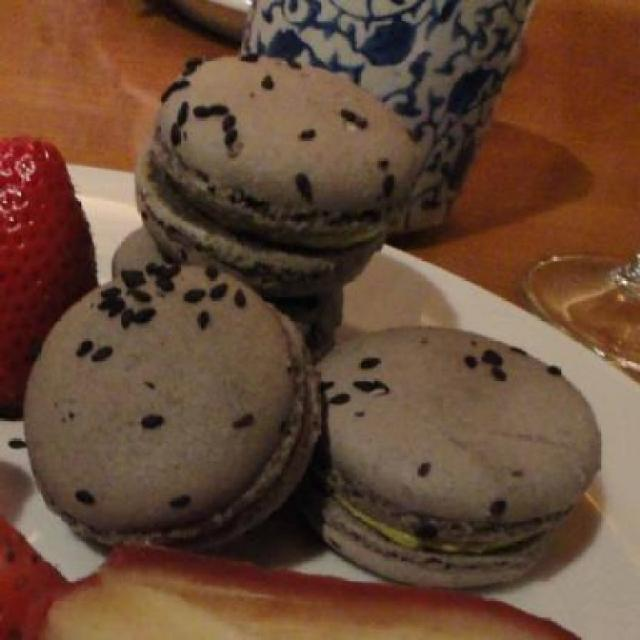Macaron: (36, 52, 598, 597)
